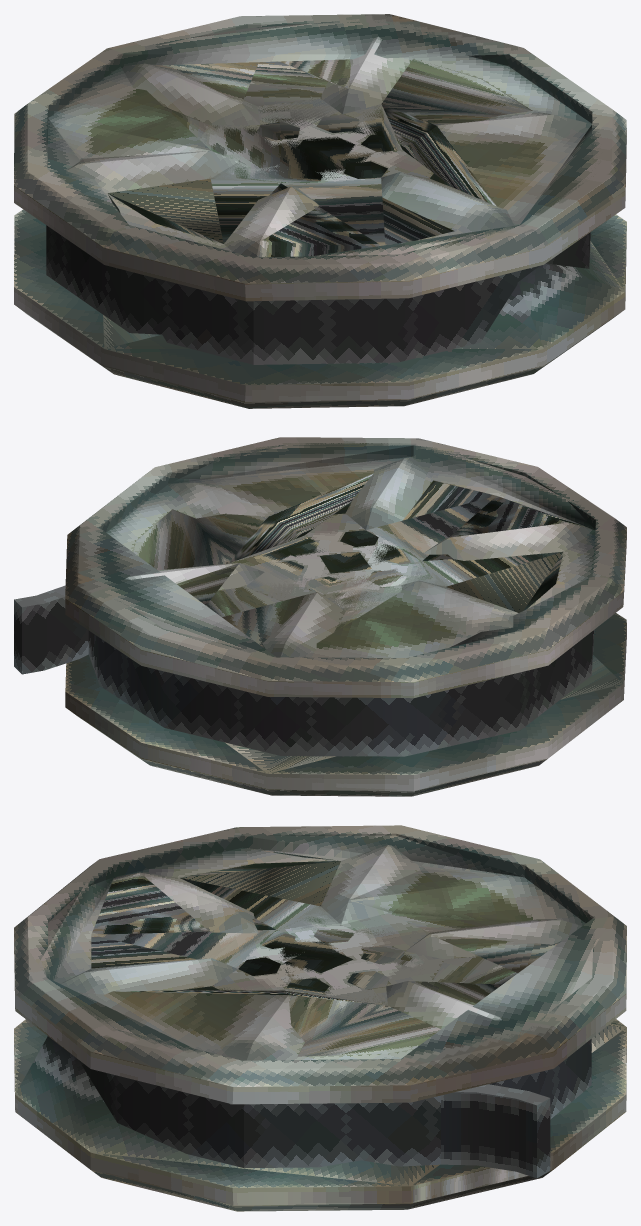
Rendered from item_film_reel.glb.
3 renders of one model, top to bottom at view 1: azimuth 30°, elevation 25°; view 2: azimuth 150°, elevation 25°; view 3: azimuth 270°, elevation 25°, orthographic. The views are drawn at different scales.
Parts seen in each view (by area): view 1: reel, film; view 2: reel, film; view 3: reel, film.
Part boxes in pixels (x1,y1,x2,y2): reel: (14,14,626,408); film: (46,225,590,364); reel: (65,437,626,796); film: (14,585,594,756); reel: (14,825,626,1211); film: (79,1039,591,1178).
Size of the model in its own units: 0.751 by 0.1995 by 0.7614.
Materials: 1 (1 with a texture image).
